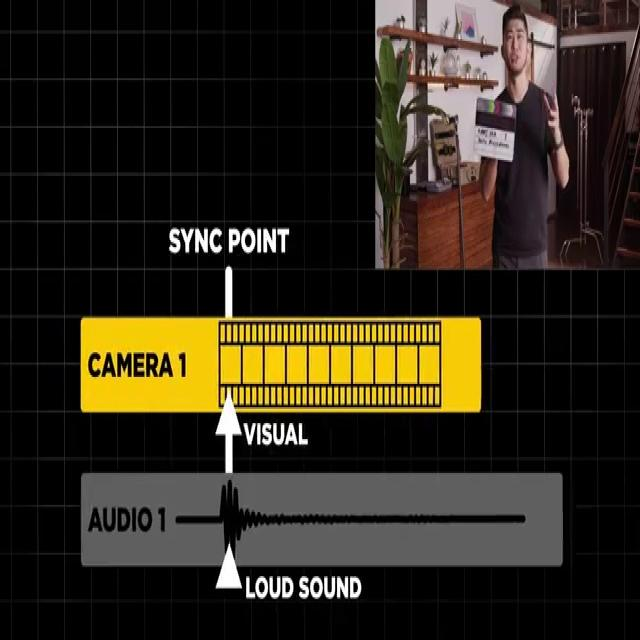Clapperboard: (472, 98, 516, 164)
